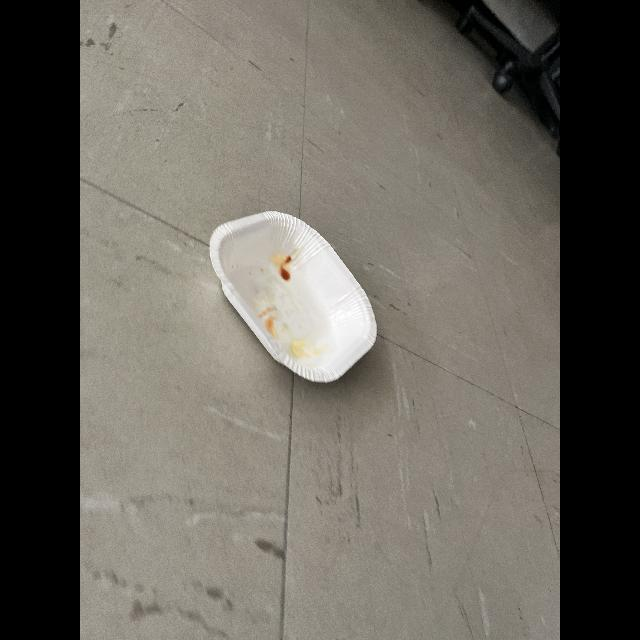cardboard_bowl: (196, 199, 392, 395)
